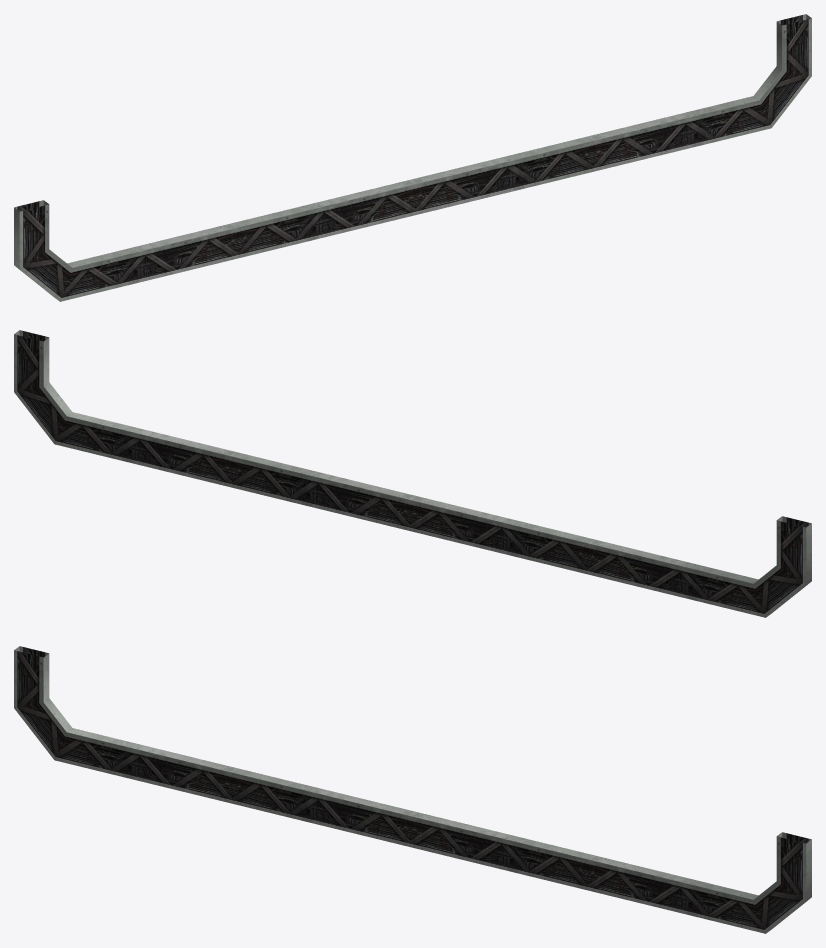
File: EQP_BEAMS002.FBX
3 renders of one model, top to bottom at view 1: azimuth 30°, elevation 25°; view 2: azimuth 150°, elevation 25°; view 3: azimuth 330°, elevation 25°, orthographic.
Parts seen in each view (by area): view 1: BEAMS002; view 2: BEAMS002; view 3: BEAMS002.
Boxes of the visible parts, <box> form: BEAMS002: <box>14,14,811,301</box>; BEAMS002: <box>14,330,811,617</box>; BEAMS002: <box>14,646,811,933</box>.
Size of the model in its own units: 1332 by 161 by 16.67.
1 material, 1 textured.
